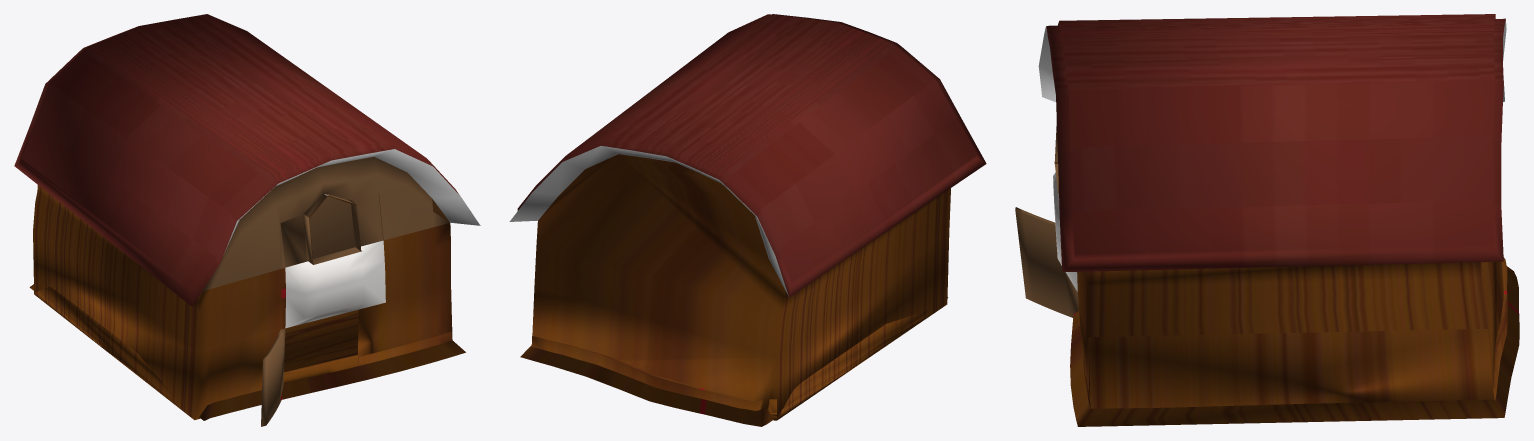
File: barn.fbx
3 renders of one model, left to right at view 1: azimuth 30°, elevation 25°; view 2: azimuth 150°, elevation 25°; view 3: azimuth 270°, elevation 25°, orthographic. The views are drawn at different scales.
Parts seen in each view (by area): view 1: barn; view 2: barn; view 3: barn.
Boxes of the visible parts, box(x1,y1,x2,y2) form: barn: box(14, 14, 480, 426); barn: box(509, 14, 986, 426); barn: box(1015, 14, 1519, 426).
Size of the model in its own units: 167 by 134 by 199.
